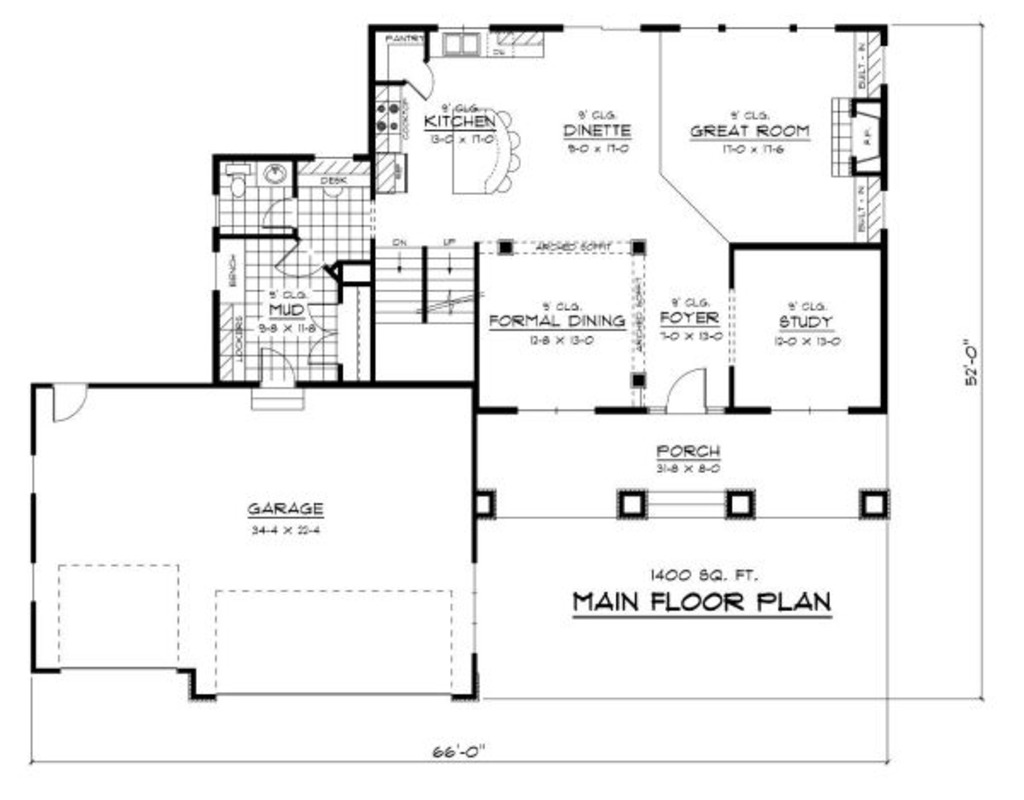door: (302, 301, 339, 373), (666, 367, 711, 418), (272, 240, 324, 284), (250, 346, 297, 393), (49, 381, 89, 426), (256, 194, 300, 233), (401, 64, 435, 104)
kitchen_bar: (449, 101, 522, 200)
large_sink: (222, 164, 257, 198)
small_sink: (256, 161, 292, 187)
stairs: (377, 236, 481, 337)
twin_sink: (439, 30, 483, 61)
windows: (673, 18, 845, 35), (556, 18, 654, 37), (763, 401, 849, 419), (509, 401, 598, 418), (470, 556, 482, 658), (26, 448, 39, 501)
